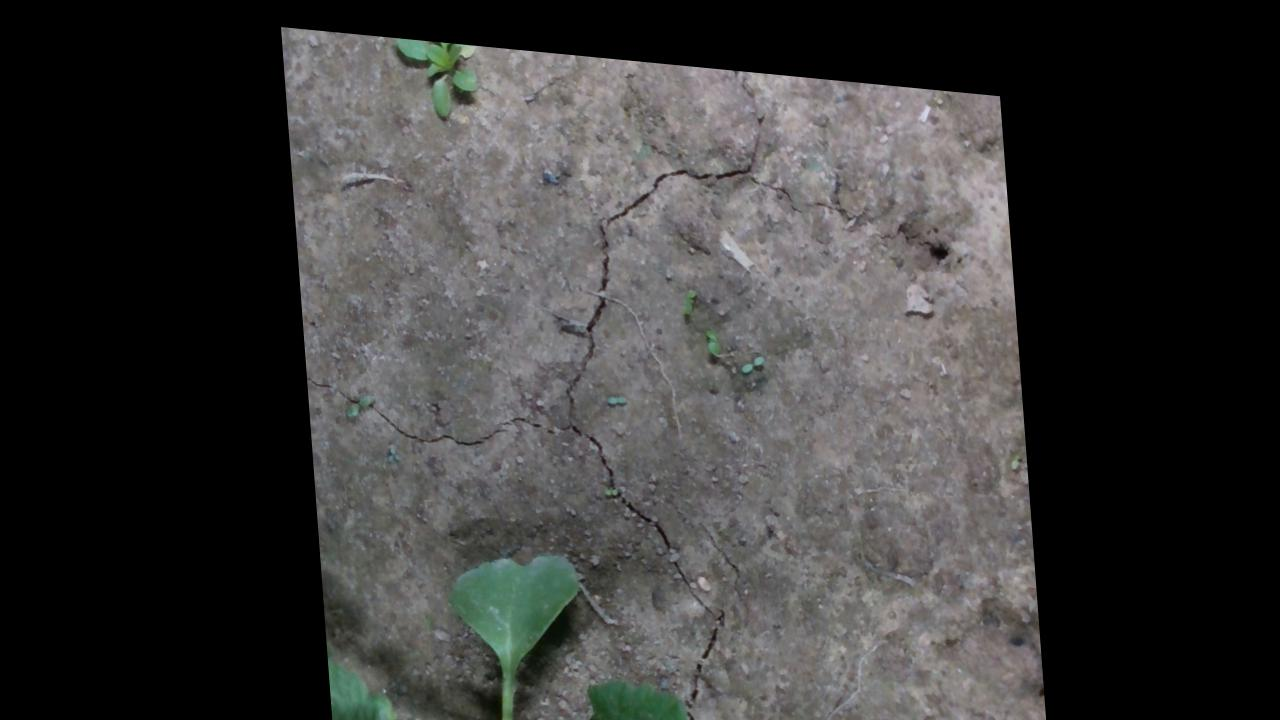weed: (338, 381, 372, 413), (674, 271, 698, 304), (735, 337, 764, 360), (700, 314, 719, 342), (601, 380, 625, 395), (597, 473, 614, 486)
